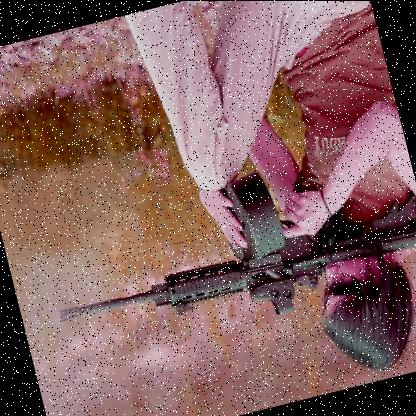rifle: (36, 146, 416, 374)
